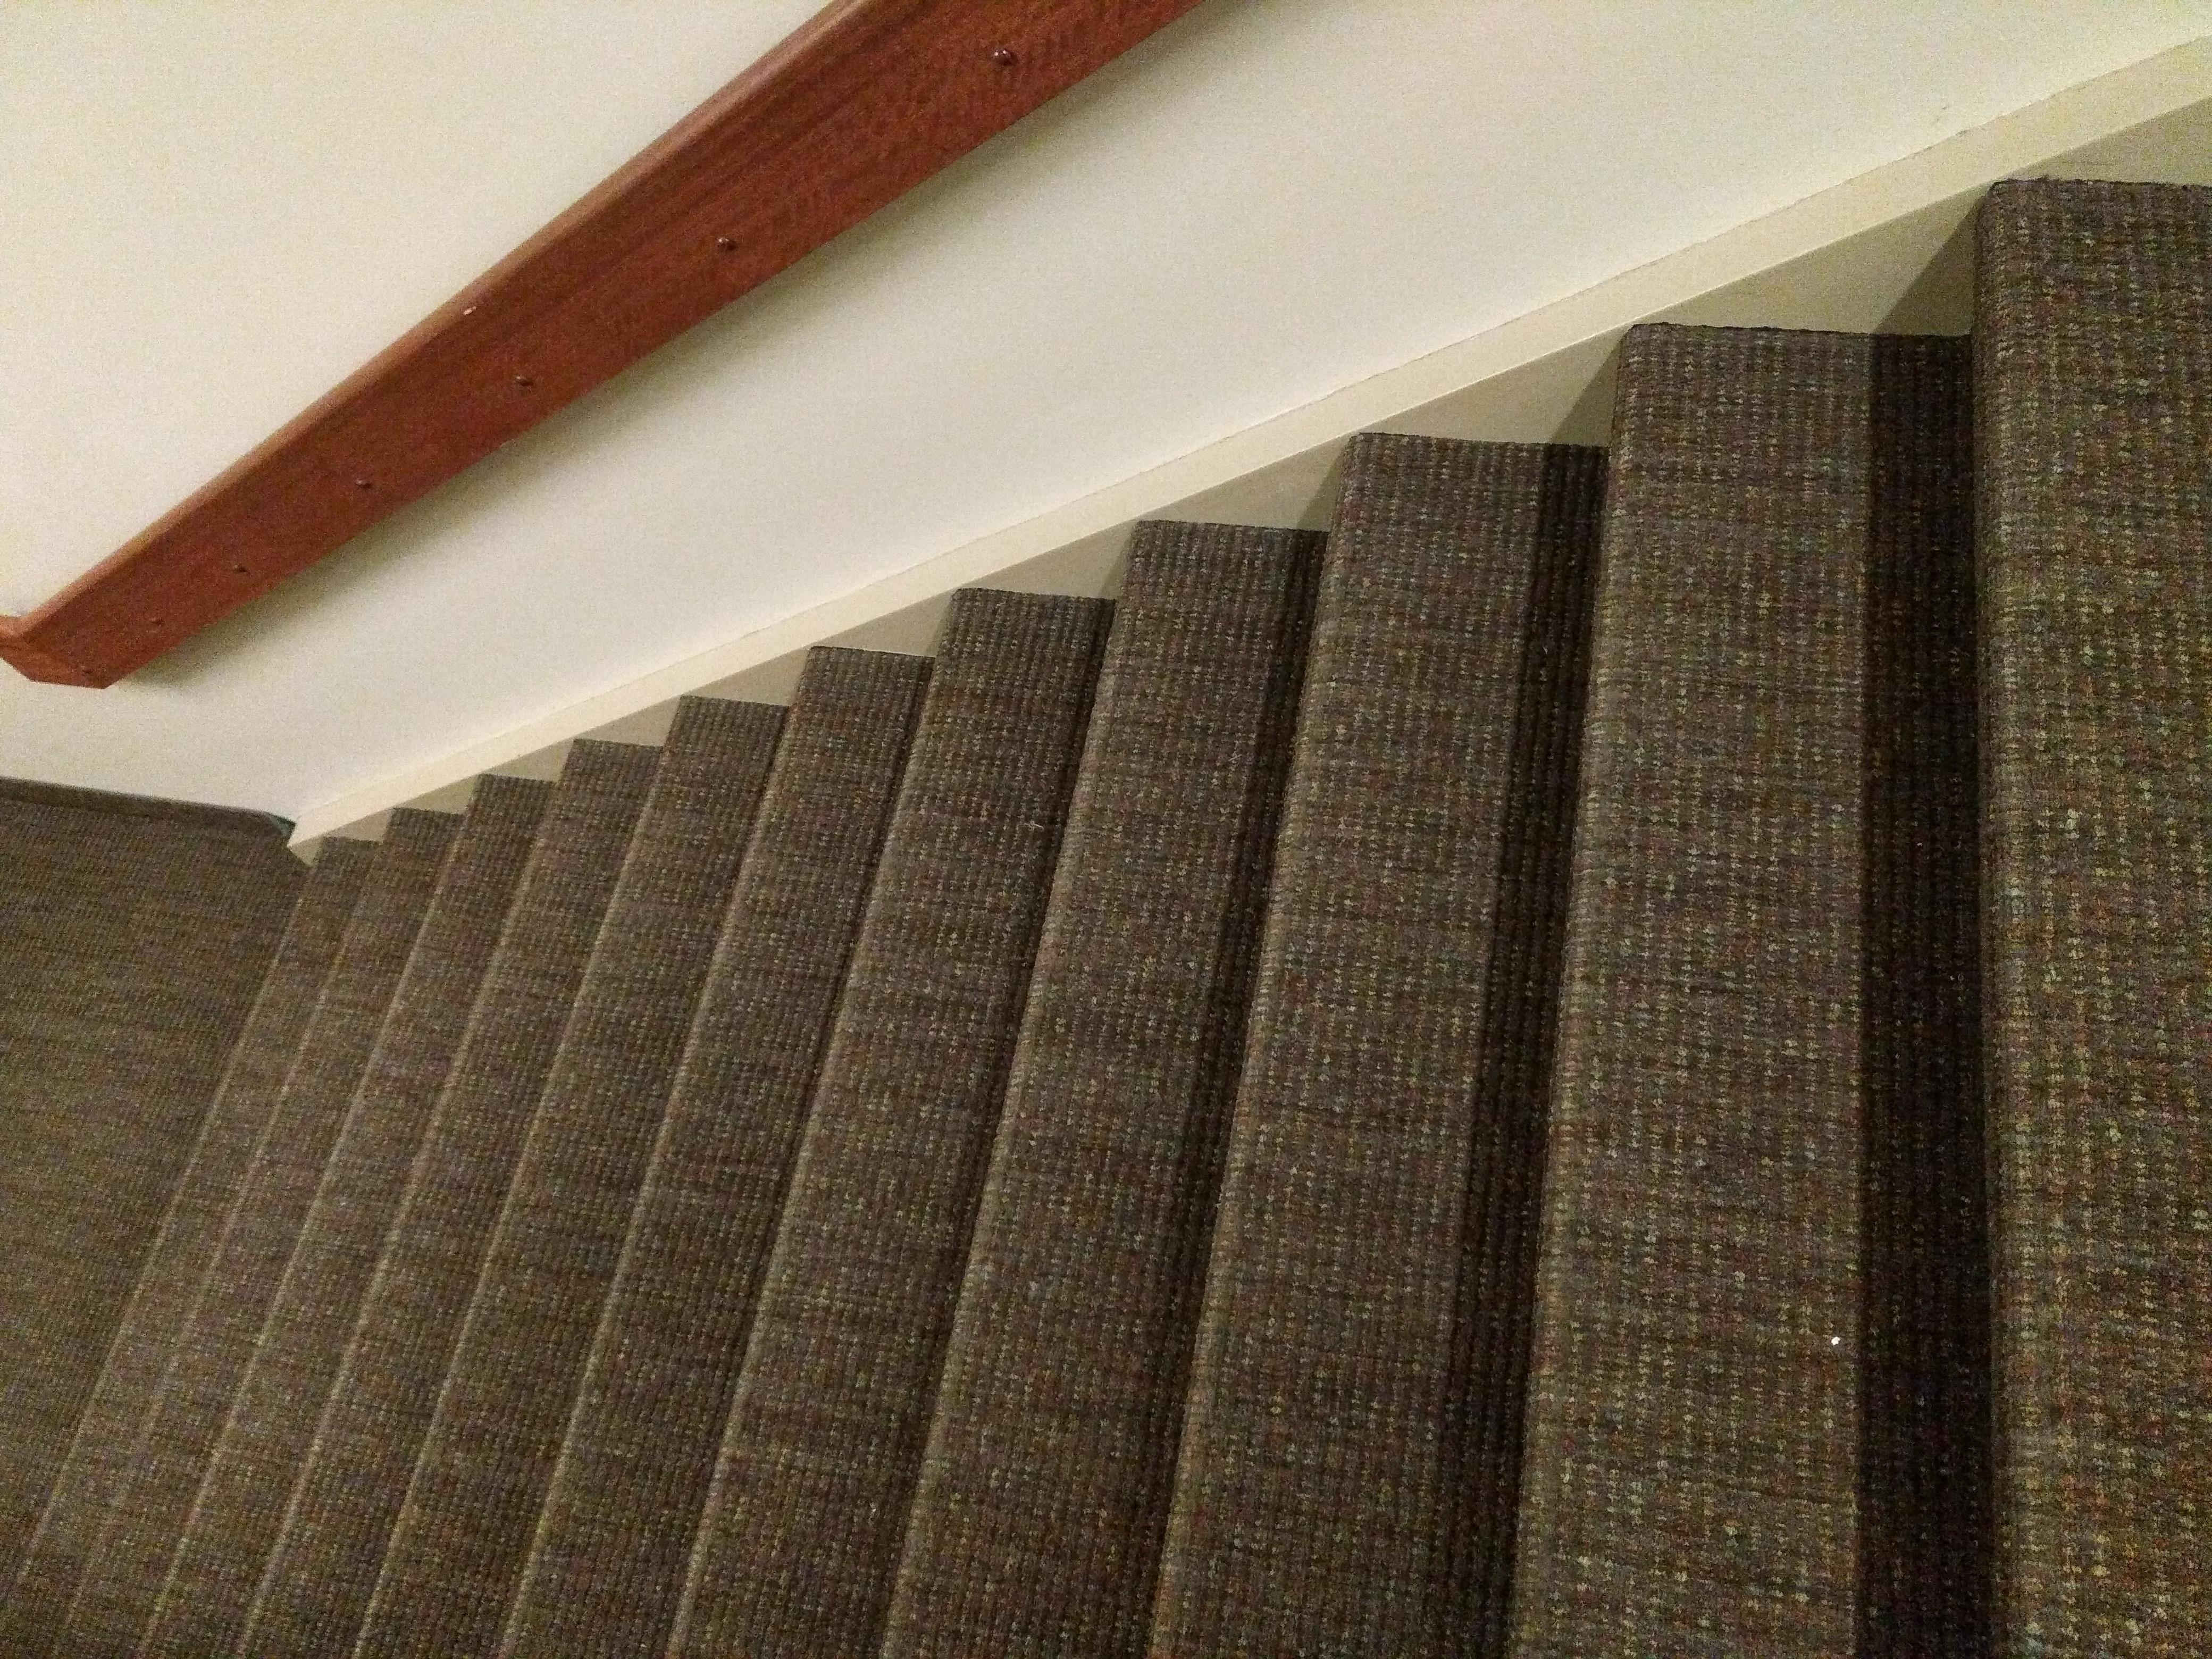stairs_down: (5, 155, 2155, 1649)
